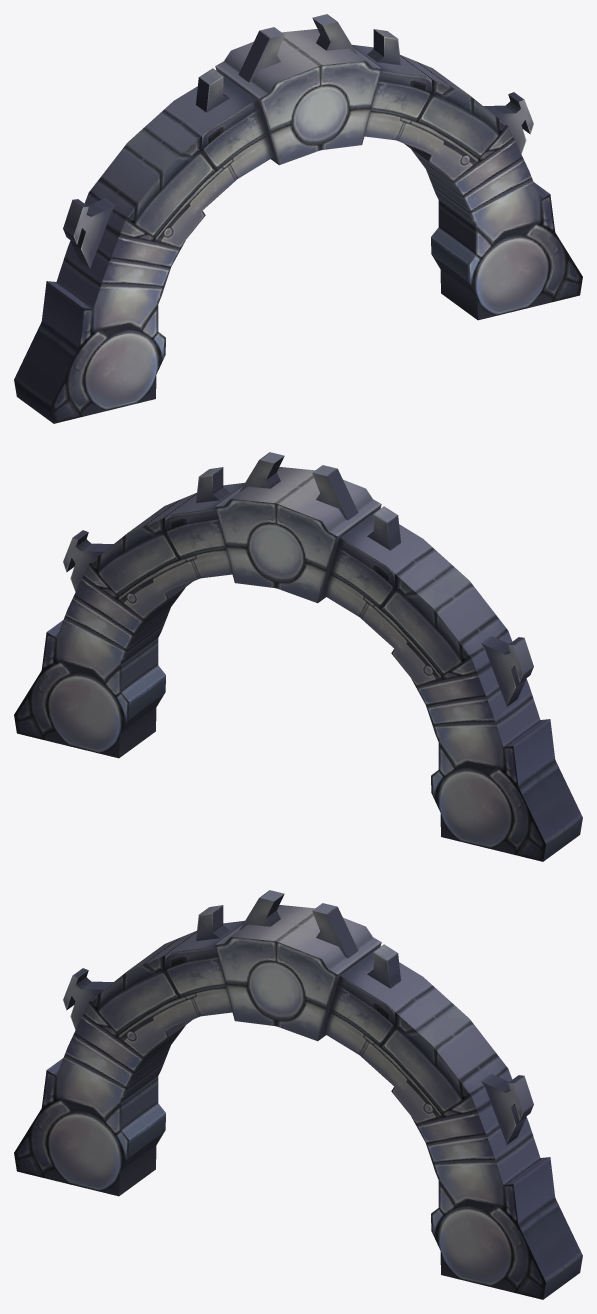
The model's file is act_tunnelgate_01.FBX.
The picture shows the model from 3 angles, top to bottom: view 1: azimuth 30°, elevation 25°; view 2: azimuth 150°, elevation 25°; view 3: azimuth 330°, elevation 25°; orthographic projection.
Visible parts, largest first — view 1: act_tunnelgate_01; view 2: act_tunnelgate_01; view 3: act_tunnelgate_01.
Boxes of the visible parts, x1=… form: act_tunnelgate_01: x1=14, y1=14, x2=582, y2=423; act_tunnelgate_01: x1=14, y1=452, x2=582, y2=861; act_tunnelgate_01: x1=14, y1=890, x2=582, y2=1299.
Bounding box in the file's own units: 702 × 404 × 101.
